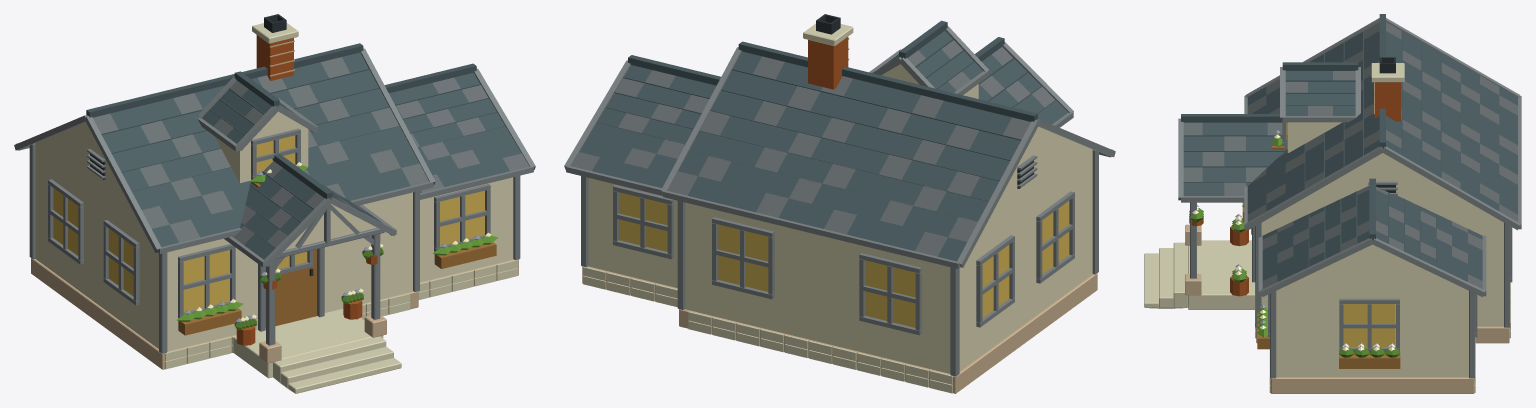
Rendered from House_A_Lv3_4_LOD0.fbx.
The picture shows the model from 3 angles, left to right: view 1: azimuth 30°, elevation 25°; view 2: azimuth 150°, elevation 25°; view 3: azimuth 270°, elevation 25°; orthographic projection. The views are drawn at different scales.
Visible parts, largest first — view 1: House_A_Lv3_4_High; view 2: House_A_Lv3_4_High; view 3: House_A_Lv3_4_High.
Part boxes in pixels (box(x1,y1,x2,y2)): House_A_Lv3_4_High: box(14, 14, 535, 393); House_A_Lv3_4_High: box(564, 14, 1115, 393); House_A_Lv3_4_High: box(1144, 14, 1521, 393).
Size of the model in its own units: 14.79 by 9.35 by 12.89.
